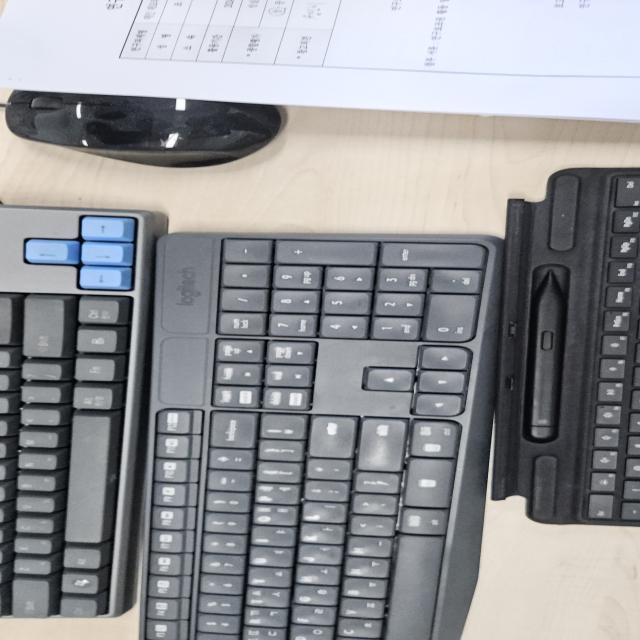Keyboard: (2, 166, 636, 638)
Mouse: (0, 77, 294, 166)
